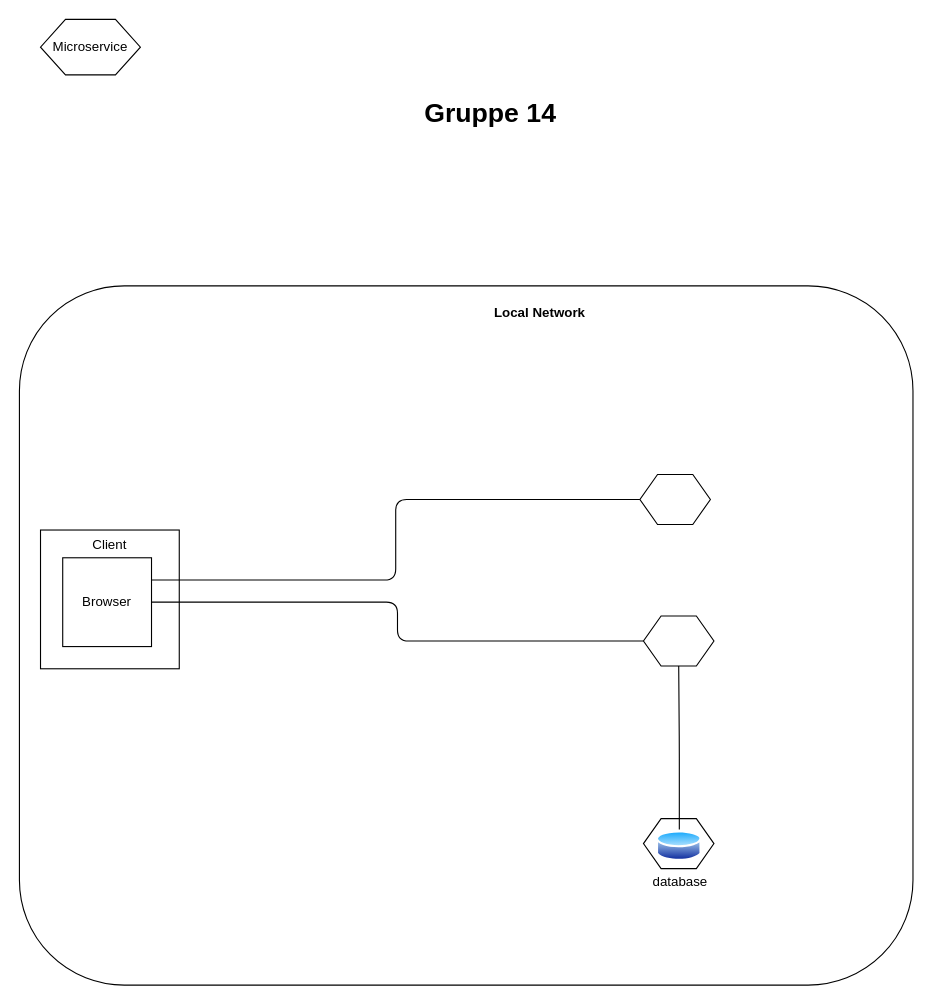
This 932x1005 diagram has some shape labels left out. Each missing label, with the box of its shape:
backend: (642, 615, 714, 666)
frontend: (639, 473, 710, 524)
